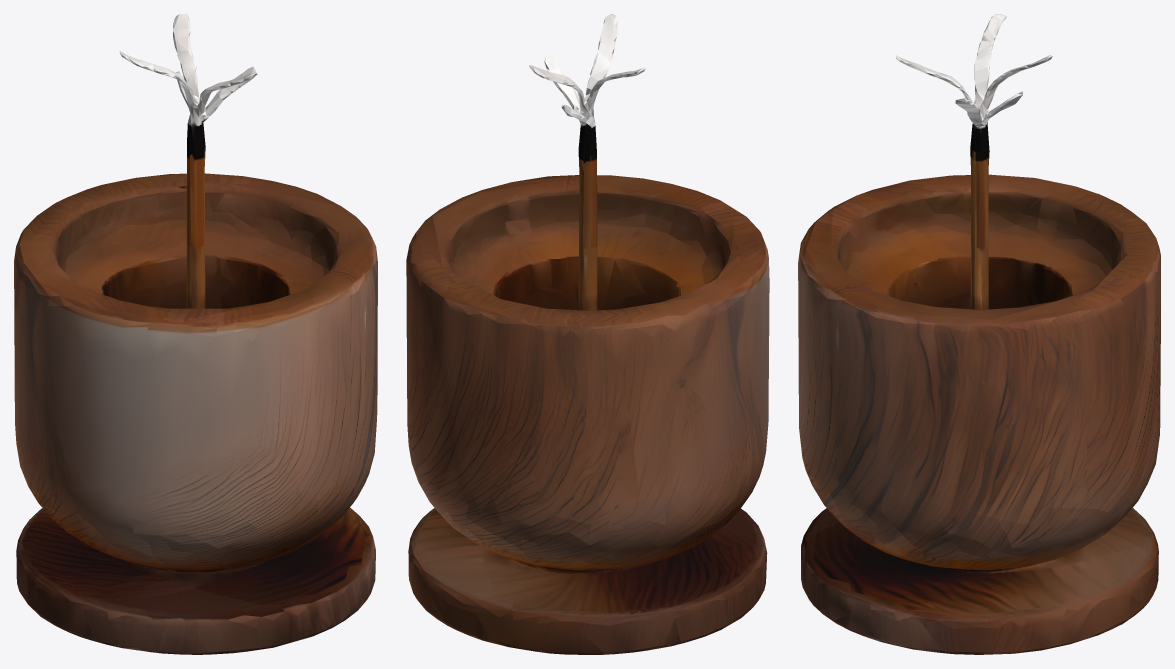
File: product-huali-002-mobile.glb
3 views of the same model, side by side, from view 1: azimuth 30°, elevation 25°; view 2: azimuth 150°, elevation 25°; view 3: azimuth 270°, elevation 25° (orthographic).
Visible parts, largest first — view 1: material; view 2: material; view 3: material.
Part boxes in pixels (box(x1,y1,x2,y2)): material: box(14, 14, 377, 654); material: box(406, 14, 769, 654); material: box(798, 14, 1160, 654).
Bounding box in the file's own units: 0.6334 × 1.03 × 0.6332.
Materials: 1 (1 with a texture image).
